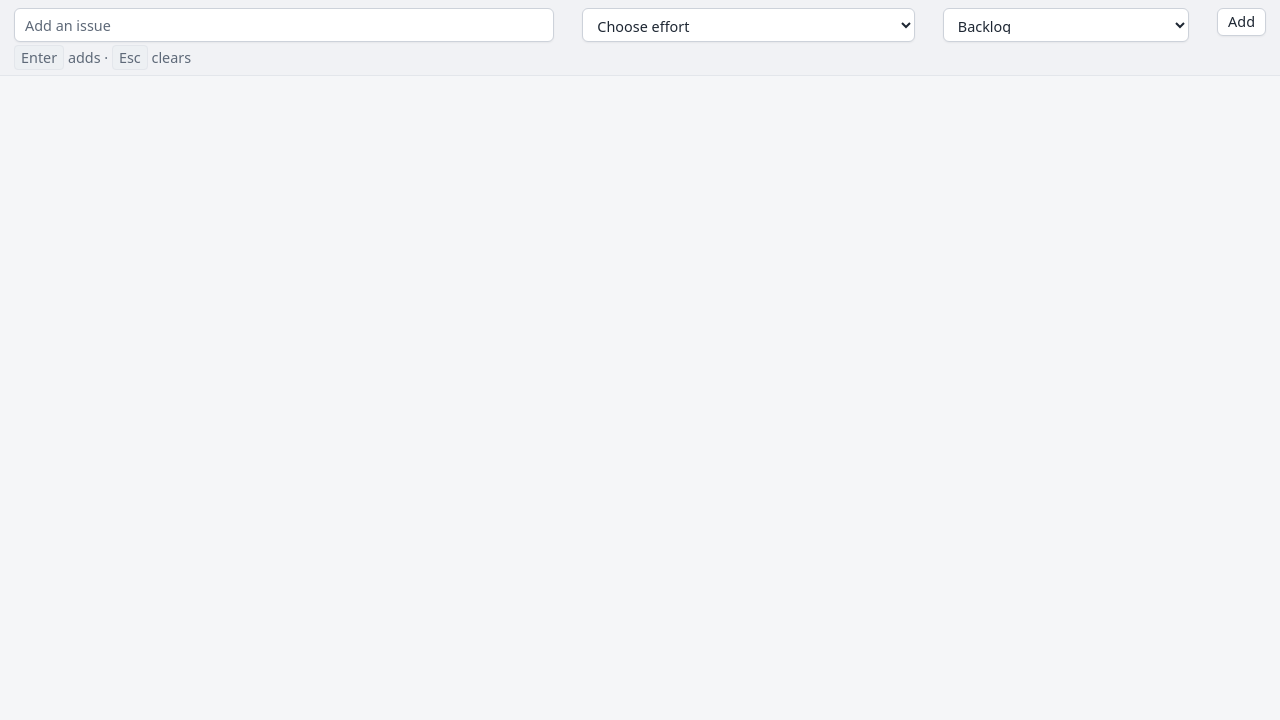
Scenario: QuickAddRow create mode › shows the saving state and ignores a second Enter until the add settles
In the field named "Title": (284, 25) [14, 8, 554, 42], type "New"
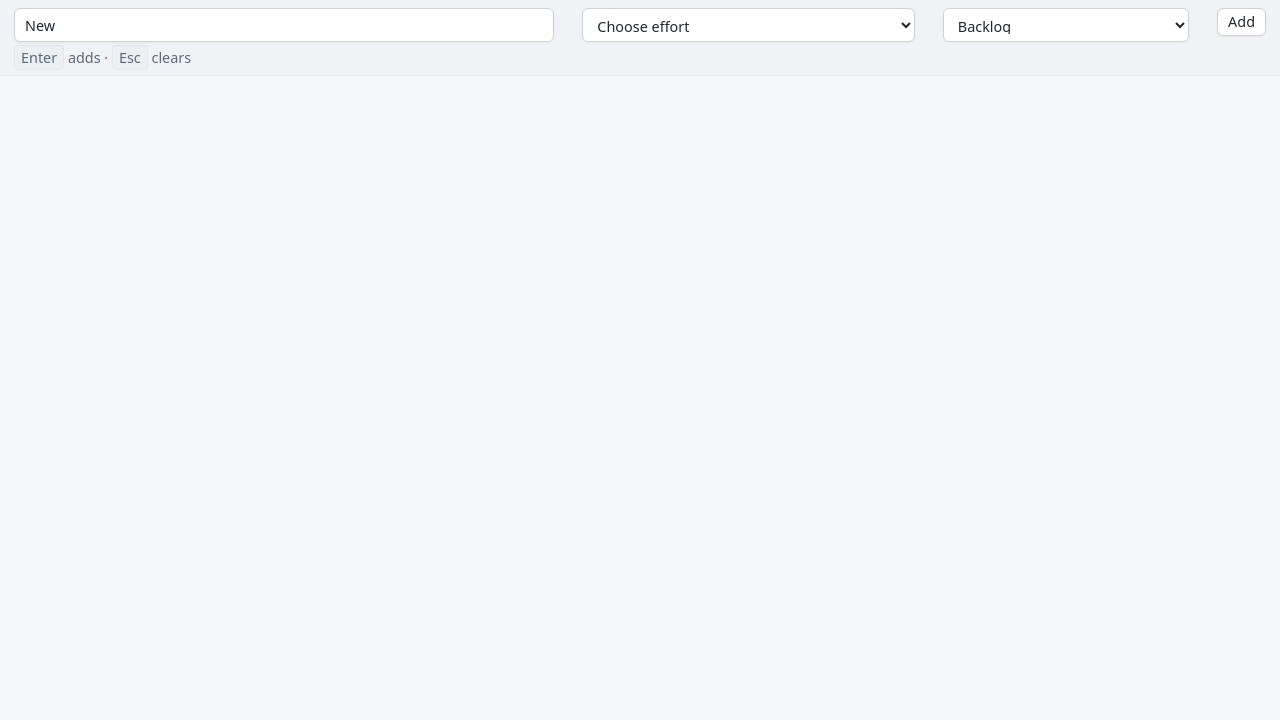
Select "Low" in the dropdown named "Effort": (749, 25) [582, 8, 915, 42]
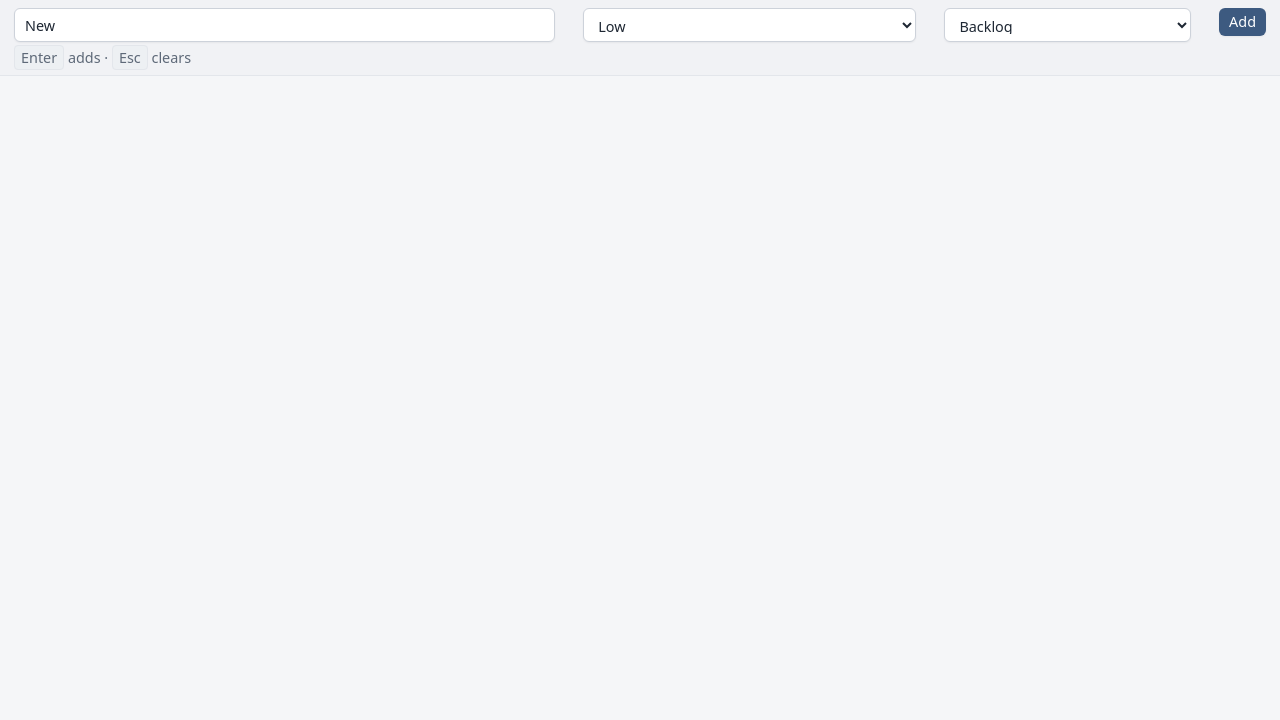
Press Enter in the field named "Title", box [14, 8, 555, 42]
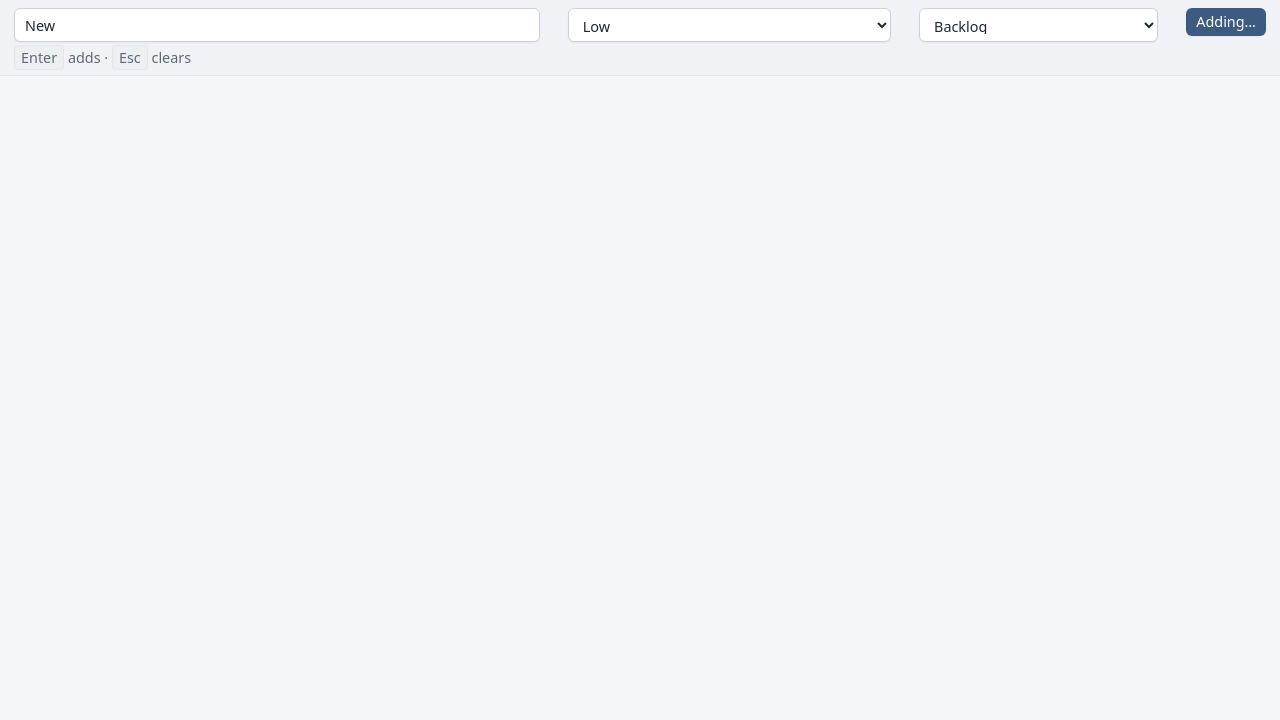
Expected: the button with test id "qa-add" reads "Adding…", [1186, 8, 1266, 36]
Expected: the dropdown named "Effort" is disabled, [568, 8, 891, 42]
Press Enter in the field named "Title", box [14, 8, 540, 42]
Click the button with test id "qa-add": (1226, 22) [1186, 8, 1266, 36]
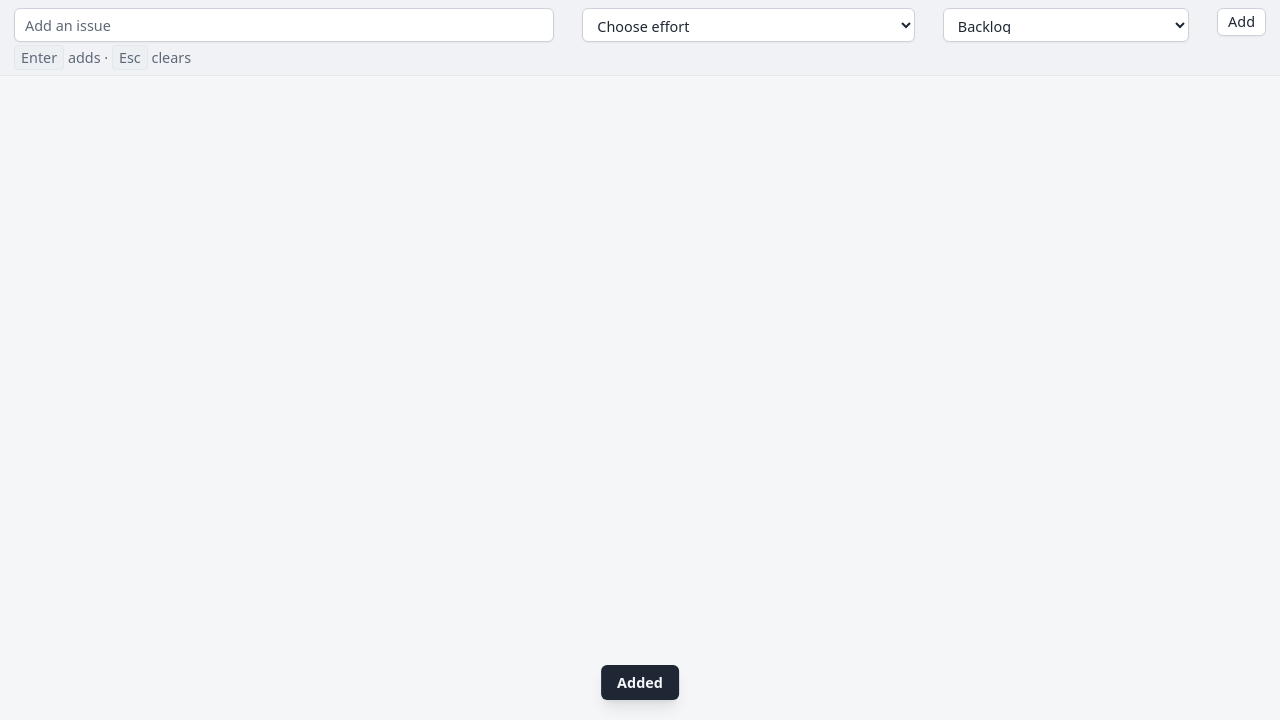
Expected: the button with test id "qa-add" reads "Add", [1217, 8, 1266, 36]
Expected: the field named "Title" is enabled, [14, 8, 554, 42]
